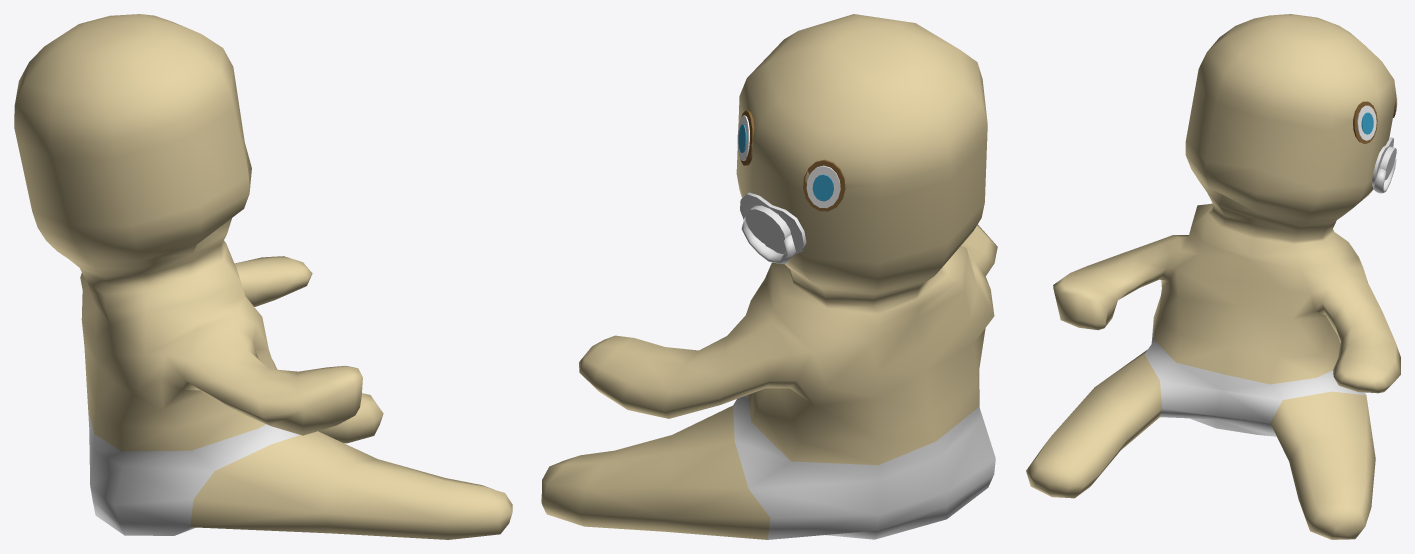
Rendered from baby.FBX.
3 views of the same model, side by side, from view 1: azimuth 30°, elevation 25°; view 2: azimuth 150°, elevation 25°; view 3: azimuth 270°, elevation 25° (orthographic). The views are drawn at different scales.
Visible parts, largest first — view 1: baby; view 2: baby, Cylinder003, Cylinder002, Line001, Cylinder008, Cylinder007; view 3: baby.
Part boxes in pixels (x1,y1,x2,y2): baby: [14, 14, 512, 539]; baby: [541, 14, 997, 539]; Cylinder003: [745, 205, 790, 248]; Cylinder002: [740, 192, 806, 254]; Line001: [741, 217, 795, 264]; Cylinder008: [806, 165, 840, 208]; Cylinder007: [803, 159, 845, 211]; baby: [1026, 14, 1400, 539].
Bounding box in the file's own units: 42.09 × 52.79 × 43.85.
